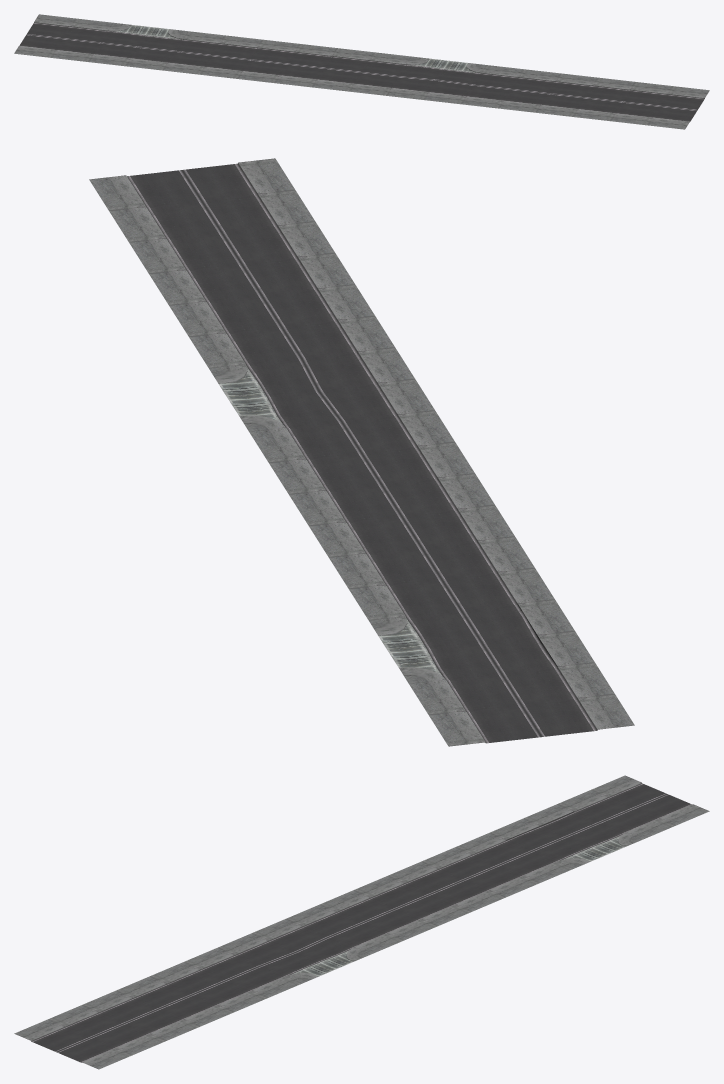
The model's file is roadssfse74.obj.
3 views of the same model, one above another, from view 1: azimuth 30°, elevation 25°; view 2: azimuth 150°, elevation 25°; view 3: azimuth 270°, elevation 25° (orthographic). The views are drawn at different scales.
Parts seen in each view (by area): view 1: roadsSFSE74; view 2: roadsSFSE74; view 3: roadsSFSE74.
Part boxes in pixels (<box>): roadsSFSE74: <box>14,14,709,129</box>; roadsSFSE74: <box>89,158,634,746</box>; roadsSFSE74: <box>14,775,709,1069</box>.
Size of the model in its own units: 145 by 0.151 by 145.
Materials: 4 (4 with a texture image).
